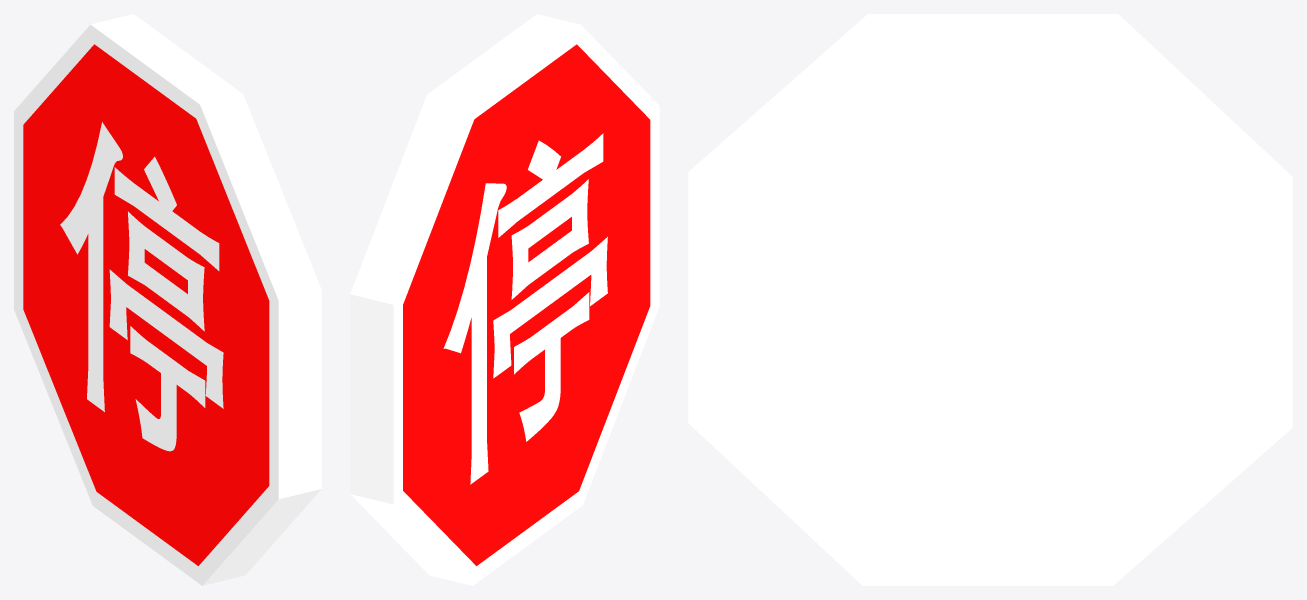
File: Stop.glb
3 renders of one model, left to right at view 1: azimuth 30°, elevation 25°; view 2: azimuth 150°, elevation 25°; view 3: azimuth 270°, elevation 25°, orthographic. The views are drawn at different scales.
Parts seen in each view (by area): view 1: Stop; view 2: Stop; view 3: Stop.
Part boxes in pixels (x1=…): Stop: x1=14, y1=14, x2=321, y2=585; Stop: x1=350, y1=14, x2=659, y2=585; Stop: x1=688, y1=14, x2=1292, y2=585.
Size of the model in its own units: 0.0968 by 0.9866 by 0.9864.
